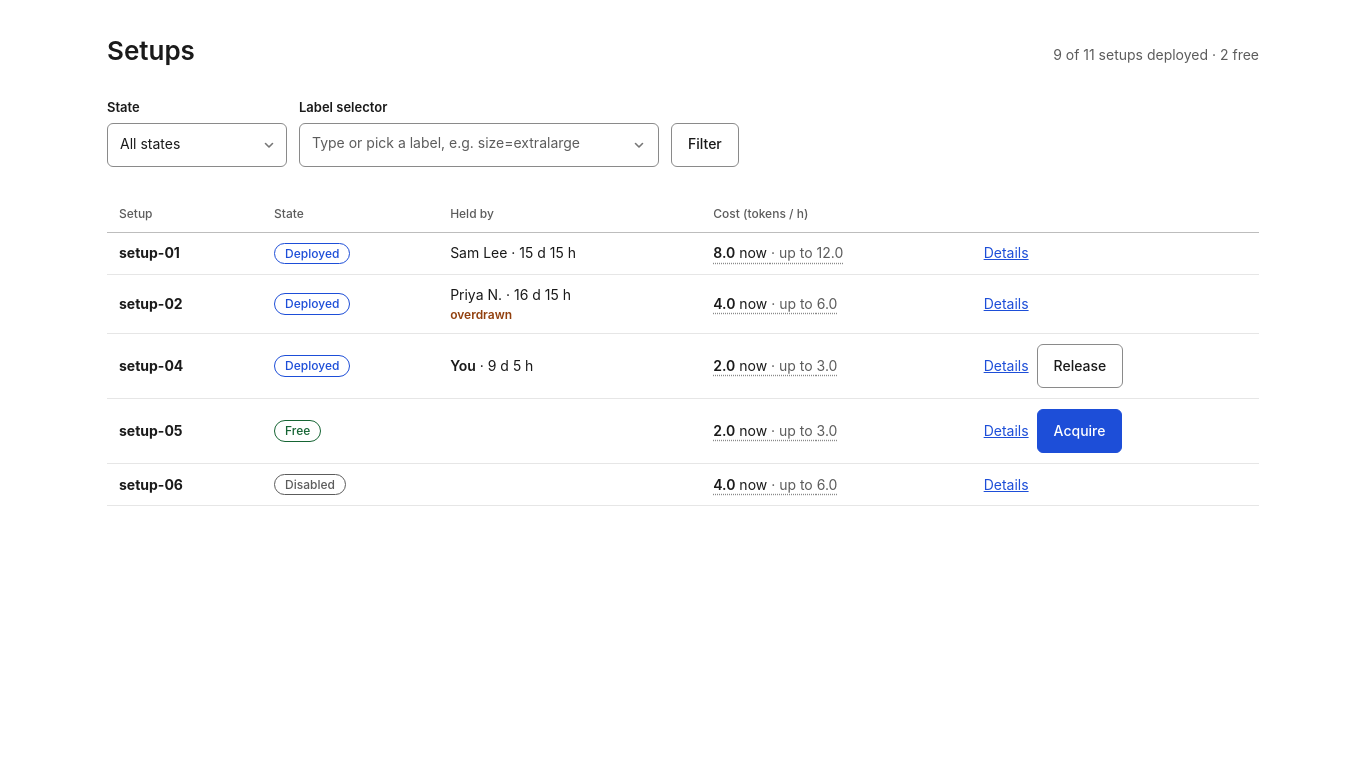
Test: Setups page › Details opens the pretty-printed JSON, read only
Click the button with aria-label "Details for setup-01": (1006, 254) [984,244,1029,264]
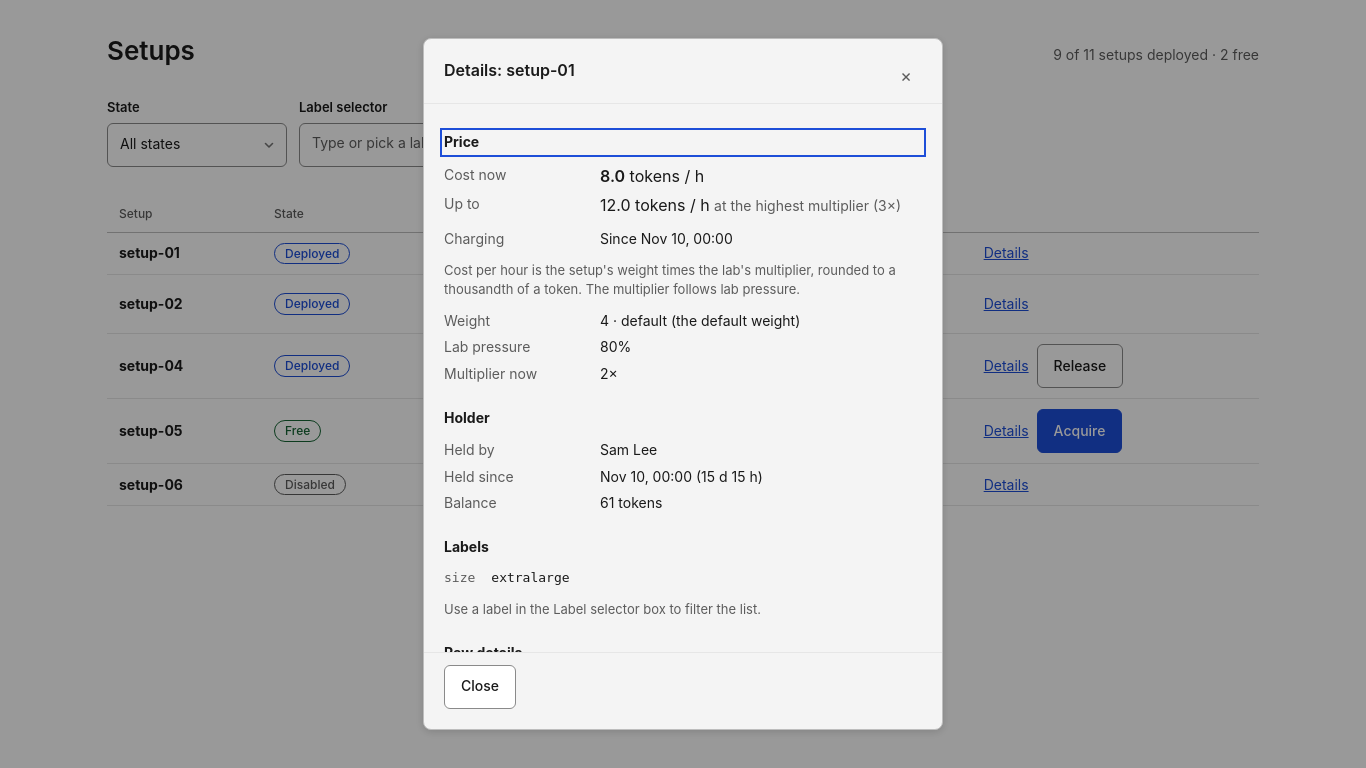
Click the button "Close": (480, 687) [444,665,516,709]
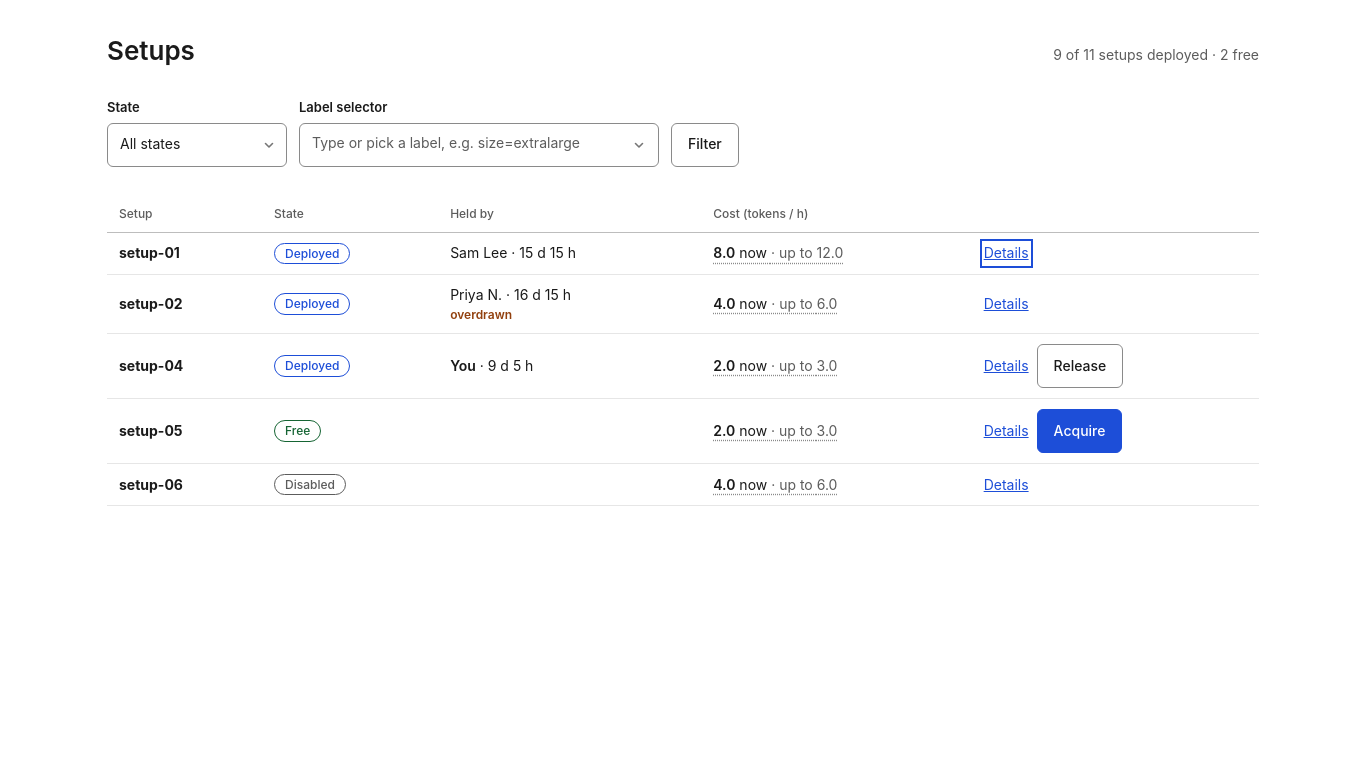
Expected: the dialog is gone
